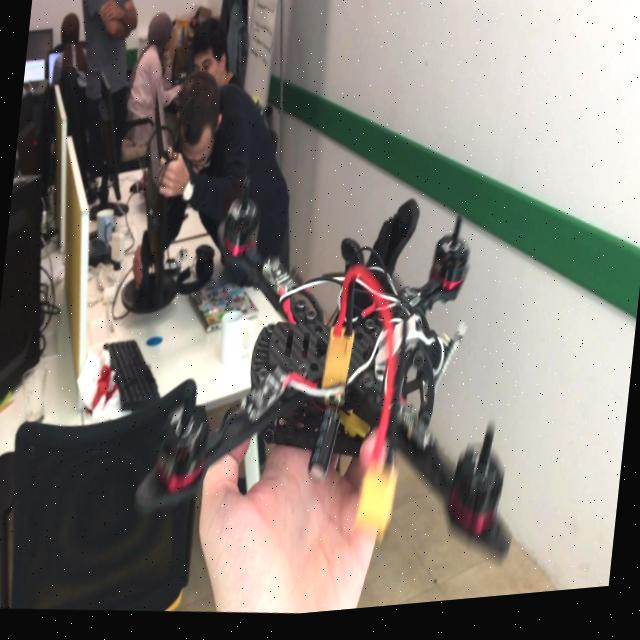drone: (128, 144, 563, 602)
